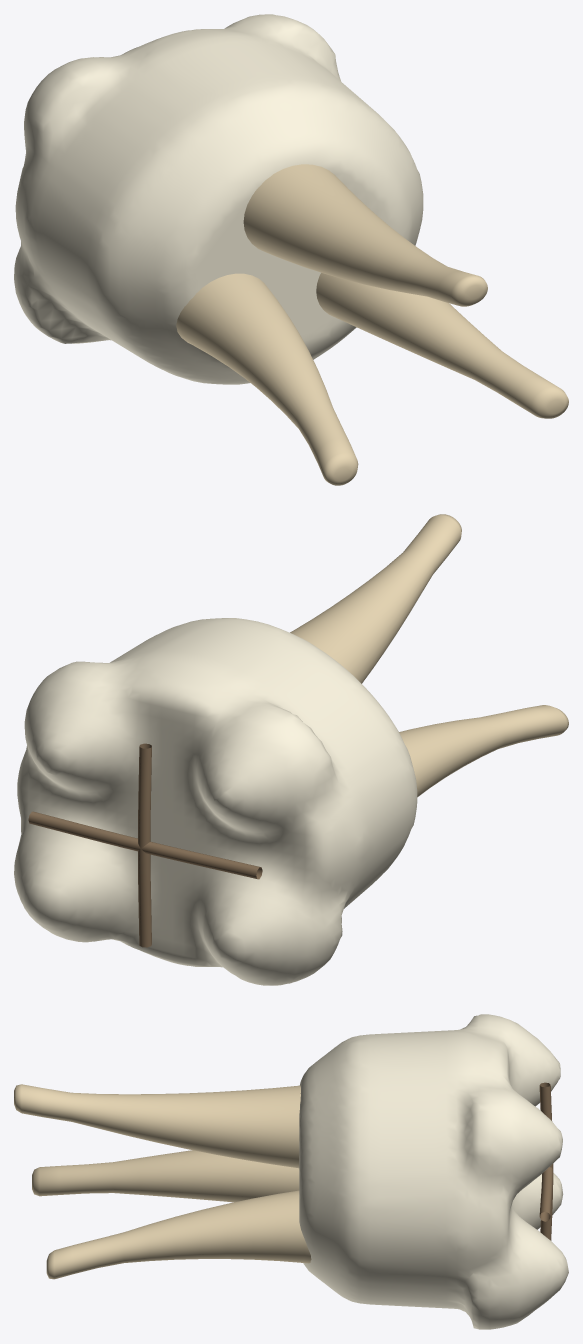
File: second-molar.glb
The picture shows the model from 3 angles, top to bottom: view 1: azimuth 30°, elevation 25°; view 2: azimuth 150°, elevation 25°; view 3: azimuth 270°, elevation 25°; orthographic projection. The views are drawn at different scales.
Parts seen in each view (by area): view 1: Crown_Anatomical.006, Root_Palatal.001, Root_Buccal_1.001, Root_Buccal_2.001; view 2: Crown_Anatomical.006, Root_Palatal.001, Root_Buccal_1.001, Mesiodistal_Groove.001, Buccolingual_Groove.001; view 3: Crown_Anatomical.006, Root_Palatal.001, Root_Buccal_2.001, Root_Buccal_1.001, Buccolingual_Groove.001, Mesiodistal_Groove.001.
Boxes of the visible parts, <box> form: Crown_Anatomical.006: <box>14,14,423,384</box>; Root_Palatal.001: <box>243,164,487,306</box>; Root_Buccal_1.001: <box>176,273,358,485</box>; Root_Buccal_2.001: <box>316,273,568,418</box>; Crown_Anatomical.006: <box>14,618,417,985</box>; Root_Palatal.001: <box>290,514,461,683</box>; Root_Buccal_1.001: <box>399,705,568,797</box>; Mesiodistal_Groove.001: <box>28,811,262,879</box>; Buccolingual_Groove.001: <box>138,743,151,947</box>; Crown_Anatomical.006: <box>299,1014,568,1329</box>; Root_Palatal.001: <box>14,1084,300,1168</box>; Root_Buccal_2.001: <box>46,1190,311,1279</box>; Root_Buccal_1.001: <box>32,1150,299,1202</box>; Buccolingual_Groove.001: <box>539,1082,553,1240</box>; Mesiodistal_Groove.001: <box>539,1167,553,1221</box>.
Size of the model in its own units: 1.05 by 0.89 by 1.79.
